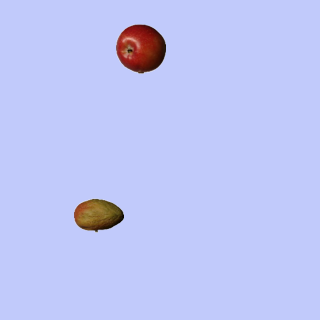Apple Braeburn: (115, 23, 165, 73)
Papaya: (73, 190, 123, 240)
